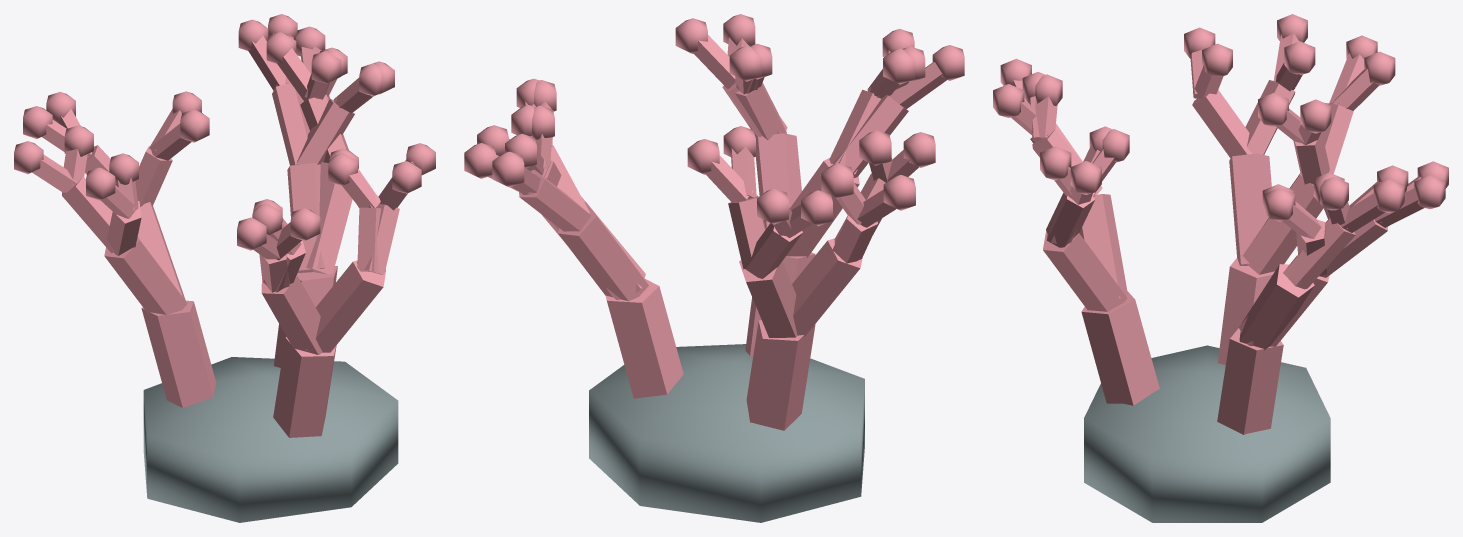
Rendered from sunken-city-and-underwater-ruins-coral-head-branching-dce9a23a__36987.glb.
3 renders of one model, left to right at view 1: azimuth 30°, elevation 25°; view 2: azimuth 150°, elevation 25°; view 3: azimuth 270°, elevation 25°, orthographic. The views are drawn at different scales.
Parts seen in each view (by area): view 1: coral-head-branching; view 2: coral-head-branching; view 3: coral-head-branching.
Part boxes in pixels (box(x1,y1,x2,y2)): coral-head-branching: box(14, 14, 435, 522); coral-head-branching: box(464, 14, 964, 522); coral-head-branching: box(993, 14, 1448, 522).
Bounding box in the file's own units: 1.36 × 1.32 × 1.41.
